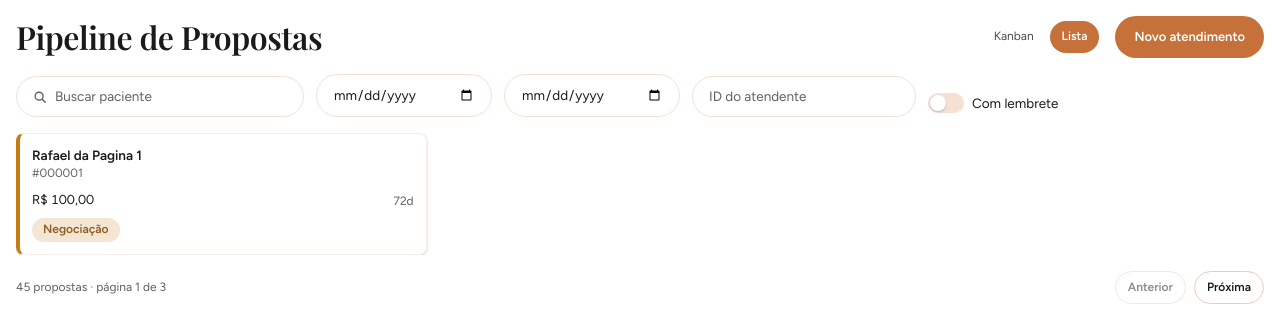
Test: Proposals › avança de página pelo controle de paginação e TROCA o conteúdo exibido
This screenshot has width=1280, height=325.
Expected: the text "Rafael da Pagina 1" is shown, [32,147,142,163]
Expected: the text "Juliana da Pagina 2" is not shown
Click the button "Próxima": click(1229, 288) [1194,271,1264,304]
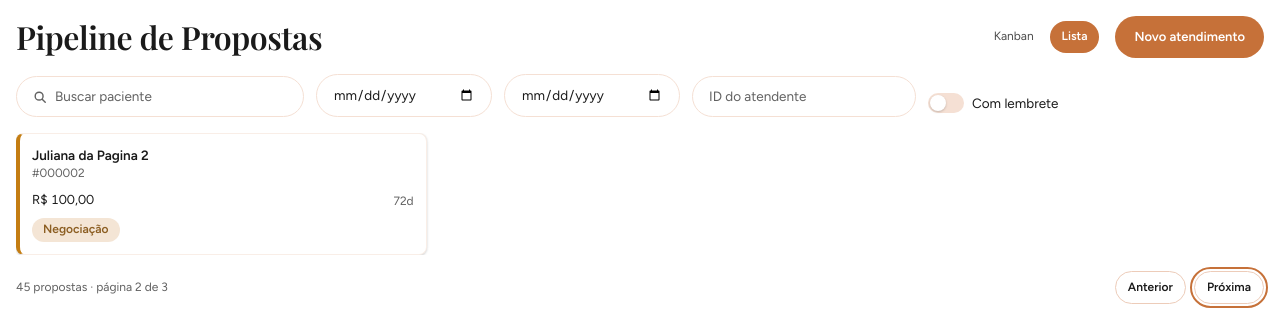
Expected: the text "Juliana da Pagina 2" is shown, [32,147,149,163]
Expected: the button "Rafael da Pagina 1" is gone
